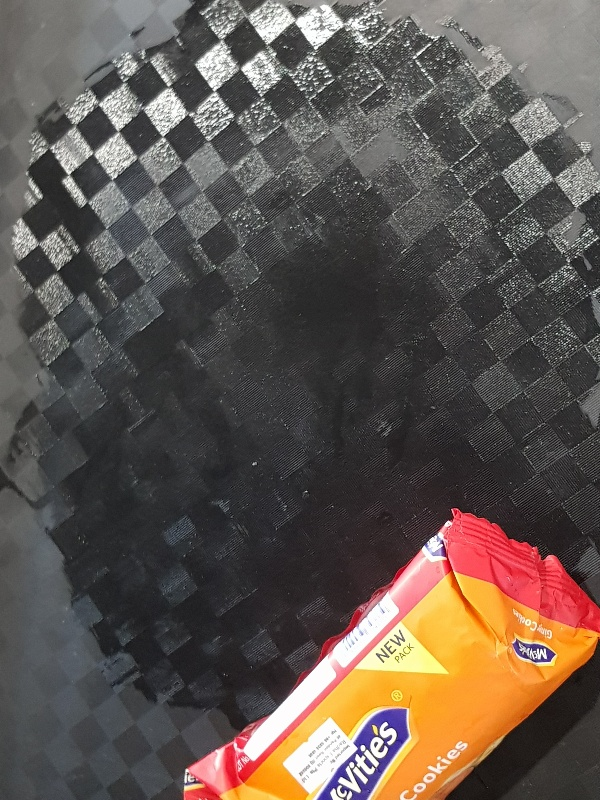McVitie's Ginger Cookies: (183, 504, 599, 800)
